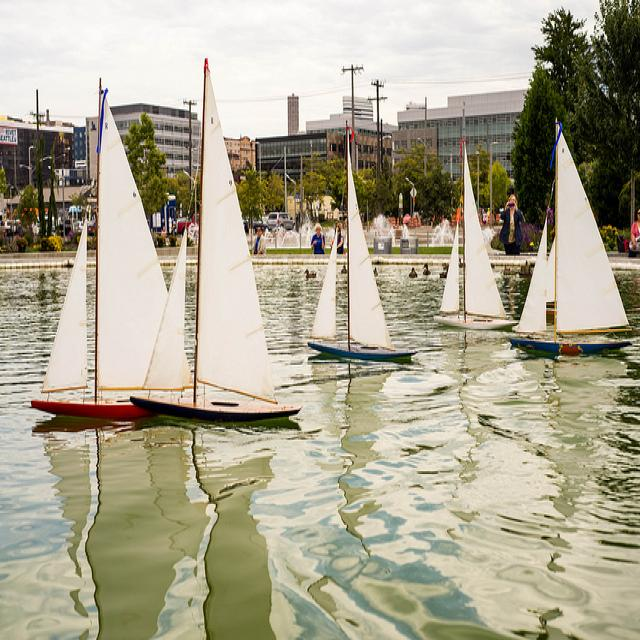sailboat: (131, 51, 307, 427), (31, 80, 179, 430), (506, 104, 638, 378), (296, 113, 416, 368), (431, 118, 515, 350)
